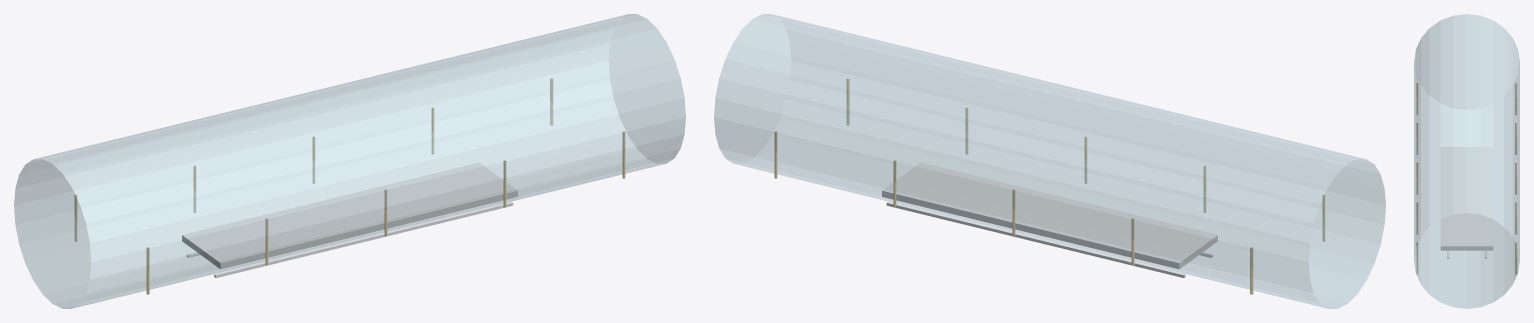
File: reef-tube-station.glb
3 renders of one model, left to right at view 1: azimuth 30°, elevation 25°; view 2: azimuth 150°, elevation 25°; view 3: azimuth 270°, elevation 25°, orthographic. The views are drawn at different scales.
Parts seen in each view (by area): view 1: Cylinder.008, Cube.005, Cylinder.009, Cube.006; view 2: Cylinder.008, Cube.005, Cylinder.009, Cube.006; view 3: Cylinder.008, Cube.005, Cylinder.009.
Part boxes in pixels (x1,y1,x2,y2): Cylinder.008: [14, 14, 685, 308]; Cube.005: [182, 162, 517, 269]; Cylinder.009: [74, 78, 625, 294]; Cube.006: [186, 202, 513, 277]; Cylinder.008: [714, 14, 1385, 308]; Cube.005: [882, 162, 1217, 269]; Cylinder.009: [774, 78, 1325, 294]; Cube.006: [886, 202, 1213, 277]; Cylinder.008: [1414, 14, 1519, 308]; Cube.005: [1440, 147, 1493, 250]; Cylinder.009: [1416, 82, 1517, 274].
Size of the model in its own units: 40 by 9 by 9.
